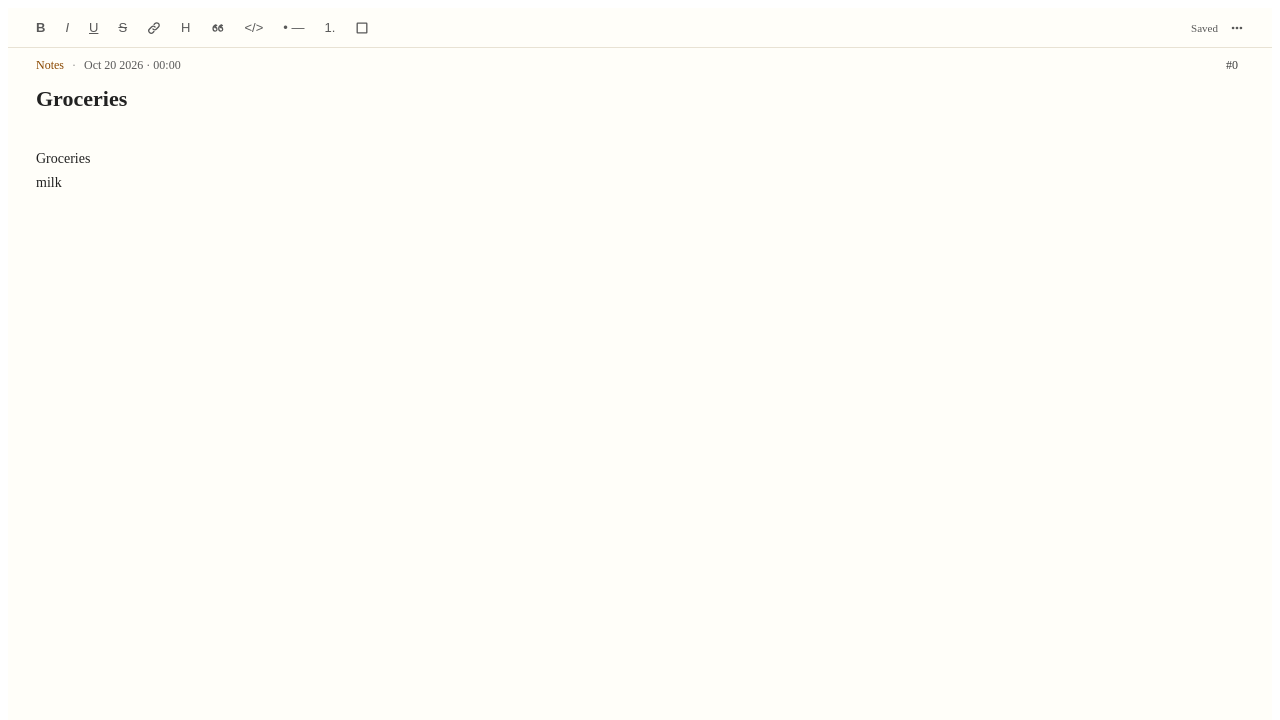
Tags popover in the editor › #N shows #0 when there are no tags but tags are editable
The width and height of the screenshot is (1280, 720).
Click the button with class "meta-tags" at (1232, 65), box [1220,56,1244,74]
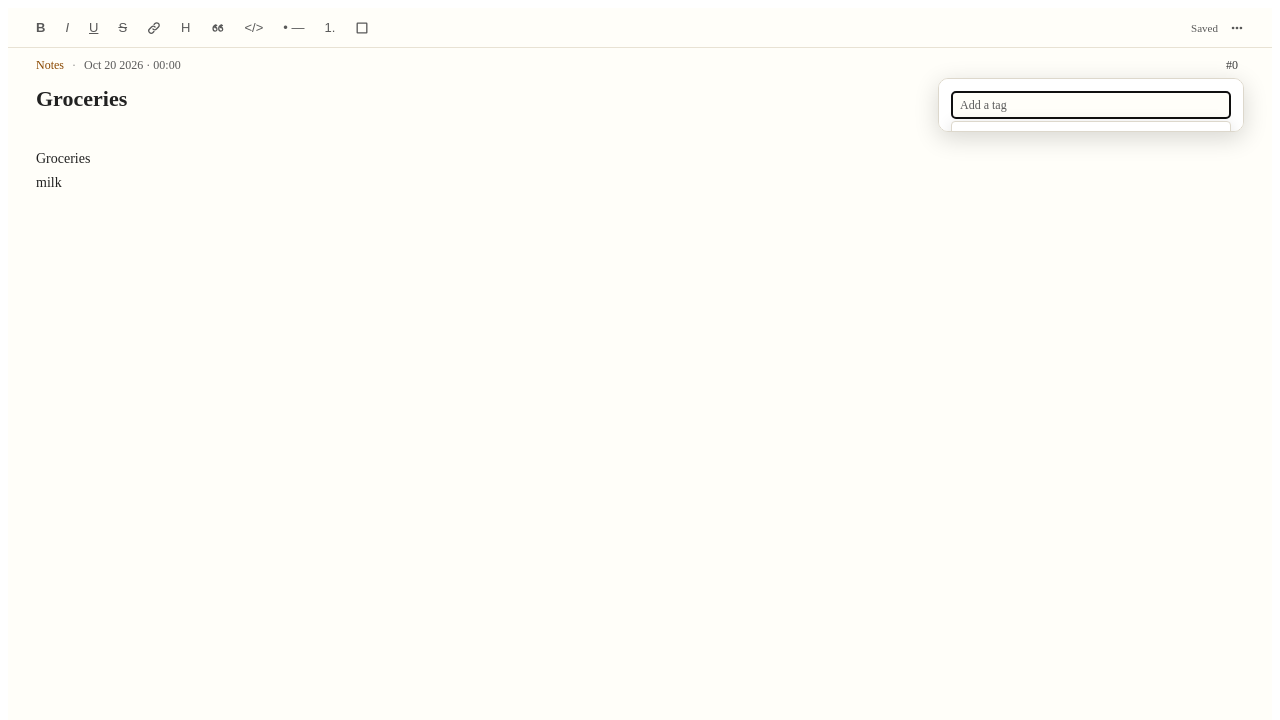
Check: the dropdown with class "tag-input" is shown, box [951,91,1231,119]
